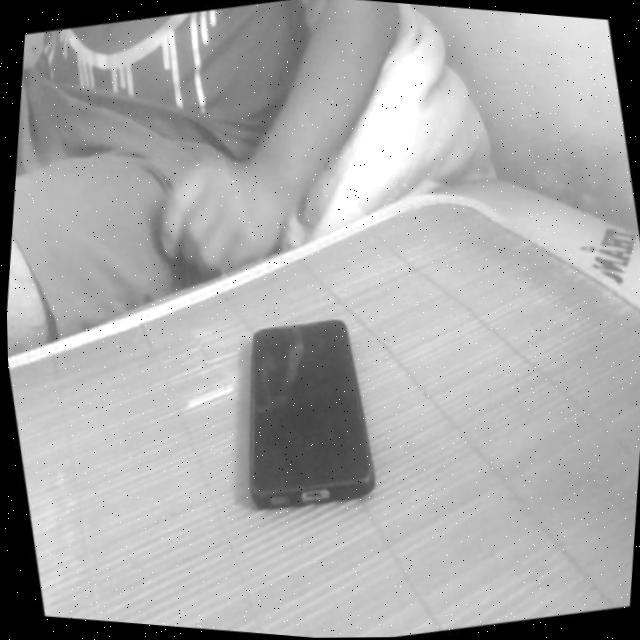phone: (188, 270, 413, 553)
